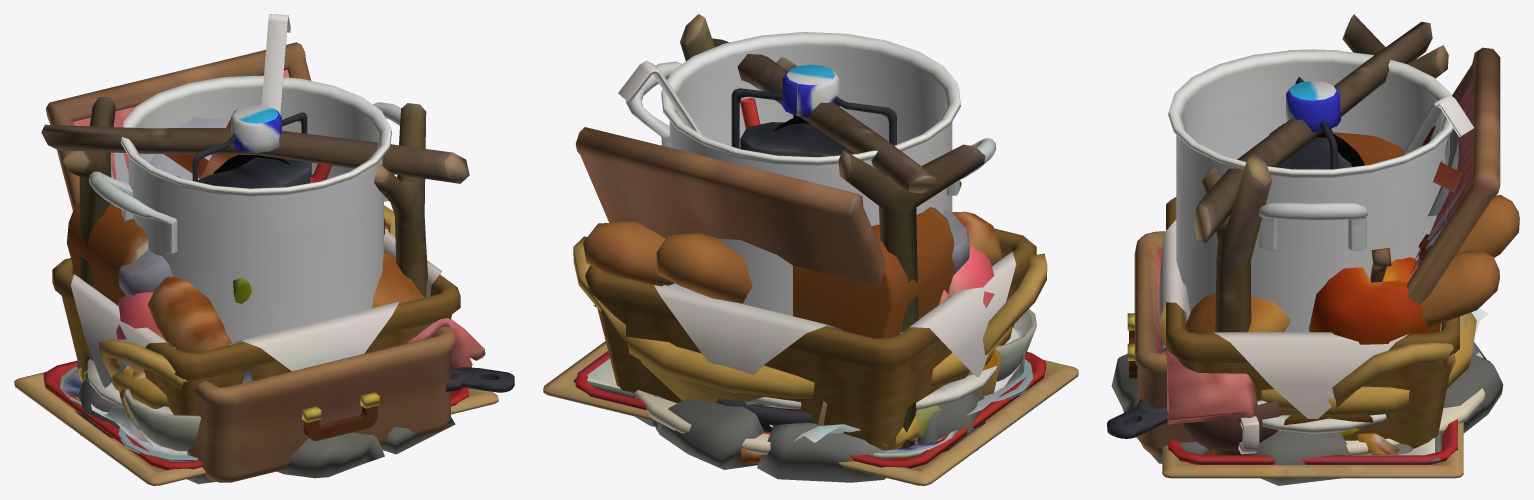
File: food.glb
3 renders of one model, left to right at view 1: azimuth 30°, elevation 25°; view 2: azimuth 150°, elevation 25°; view 3: azimuth 270°, elevation 25°, orthographic. The views are drawn at different scales.
Visible parts, largest first — view 1: mReBody (×3), mBody (×7), mReFabric; view 2: mBody (×8), mReBody (×3), mReFabric; view 3: mBody (×8), mReBody (×3), mReFabric, mGlassR.
Part boxes in pixels (x1,y1,x2,y2): mReBody (×3): [46, 14, 514, 482]; mBody (×7): [14, 96, 498, 485]; mReFabric: [231, 105, 281, 152]; mBody (×8): [543, 14, 1078, 485]; mReBody (×3): [575, 32, 995, 431]; mReFabric: [781, 64, 839, 117]; mBody (×8): [1111, 14, 1519, 485]; mReBody (×3): [1107, 47, 1500, 453]; mReFabric: [1285, 81, 1341, 131]; mGlassR: [1316, 131, 1364, 166].
Size of the model in its own units: 9.33 by 8.14 by 8.8.
Materials: 17 (17 with a texture image).
